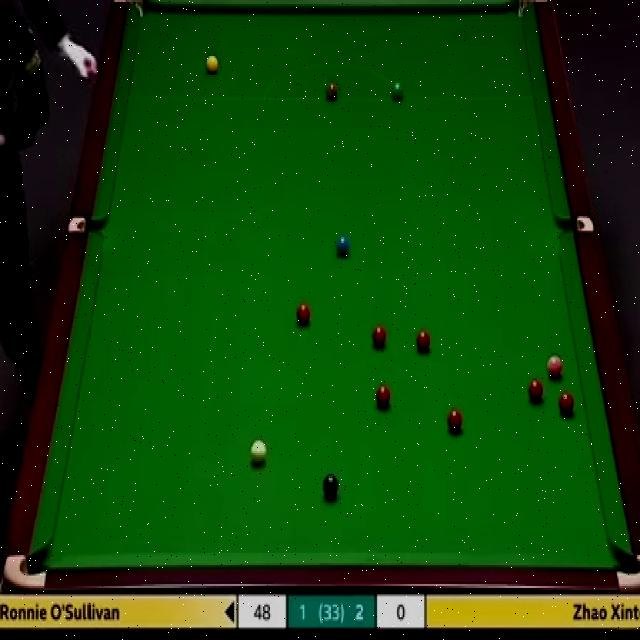black-ball: (321, 471, 339, 496)
blue-ball: (336, 232, 350, 259)
brown-ball: (324, 82, 340, 101)
green-ball: (390, 80, 405, 102)
pink-ball: (546, 356, 564, 376)
red-ball: (446, 408, 464, 437), (374, 384, 390, 410), (370, 325, 387, 349), (526, 378, 544, 400), (557, 392, 574, 414), (417, 328, 431, 354), (296, 302, 310, 324)
white-ball: (249, 440, 267, 468)
yellow-ball: (206, 56, 219, 76)
